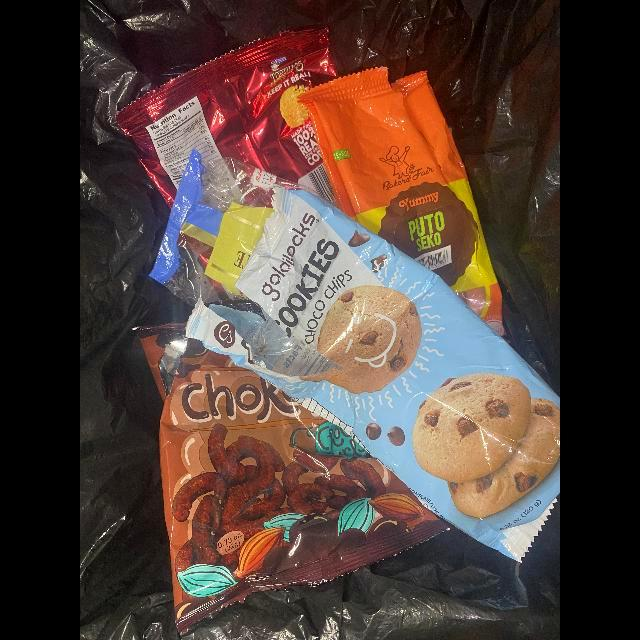food_wrapper: (185, 189, 560, 562), (136, 325, 448, 634), (297, 67, 505, 338), (116, 27, 338, 206), (149, 150, 294, 306)
